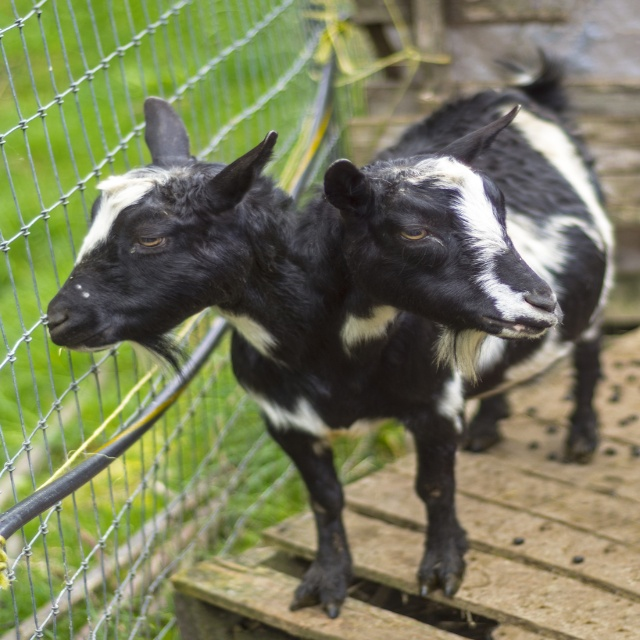Goat: (48, 98, 617, 624)
